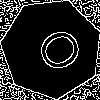O: (26, 23, 86, 82)
